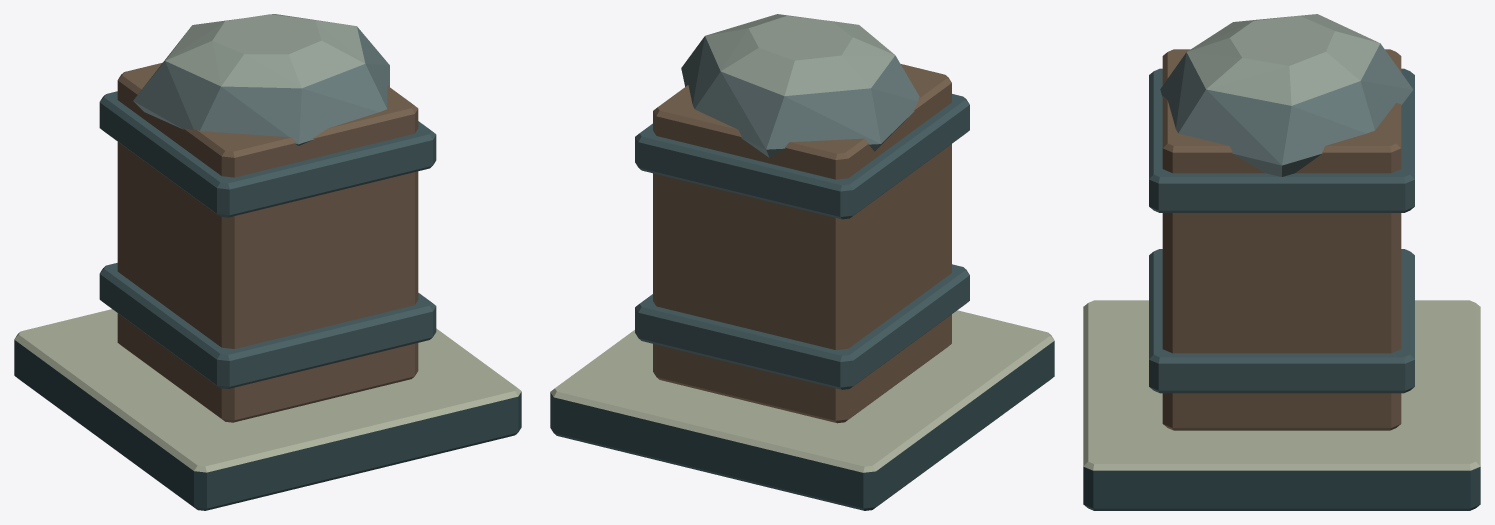
The model's file is pillar-broken.glb.
3 views of the same model, side by side, from view 1: azimuth 30°, elevation 25°; view 2: azimuth 150°, elevation 25°; view 3: azimuth 270°, elevation 25° (orthographic). The views are drawn at different scales.
Visible parts, largest first — view 1: pillar-broken__body; view 2: pillar-broken__body; view 3: pillar-broken__body.
Boxes of the visible parts, x1,y1,x2,y2 form: pillar-broken__body: (14,14,521,510); pillar-broken__body: (550,14,1054,510); pillar-broken__body: (1083,14,1480,510).
Bounding box in the file's own units: 1 × 1.08 × 1.
